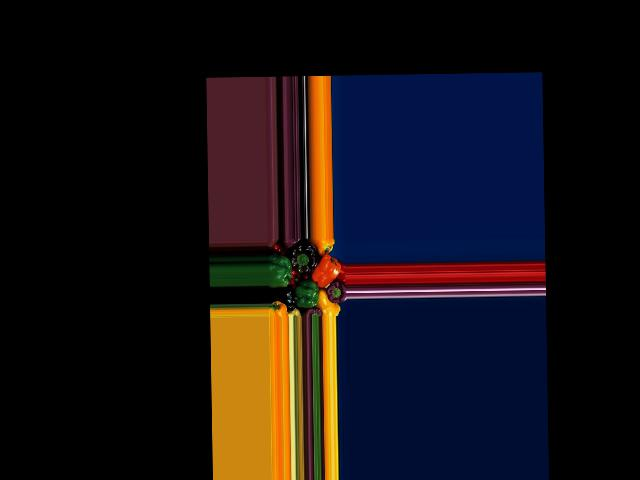bell_pepper: (267, 253, 289, 286)
